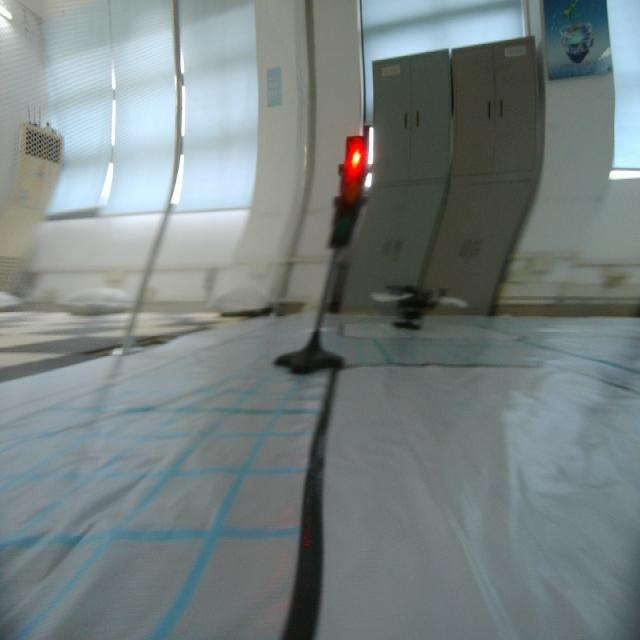red: (334, 132, 370, 256)
